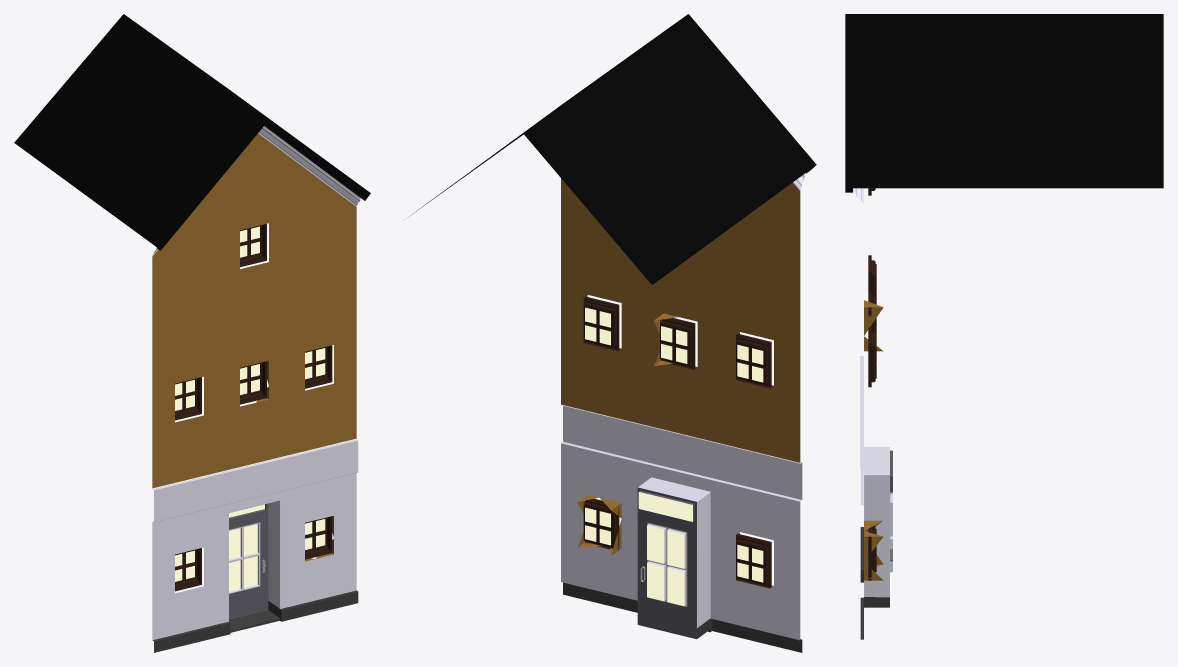
File: house.fbx
3 renders of one model, left to right at view 1: azimuth 30°, elevation 25°; view 2: azimuth 150°, elevation 25°; view 3: azimuth 270°, elevation 25°, orthographic. The views are drawn at different scales.
Parts seen in each view (by area): view 1: Cube.007, windows.002; view 2: Cube.007, windows.002; view 3: Cube.007, windows.002.
Part boxes in pixels (x1,y1,x2,y2): Cube.007: (14,14,370,652); windows.002: (175,224,332,591); Cube.007: (409,14,816,652); windows.002: (583,296,771,588); Cube.007: (845,14,1163,639); windows.002: (868,188,876,580).
Size of the model in its own units: 445 by 1015 by 502.
